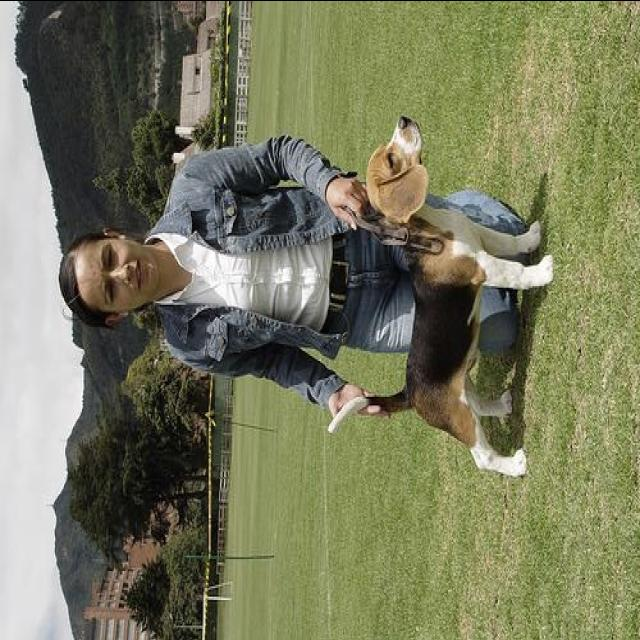beagle: (326, 114, 556, 478)
